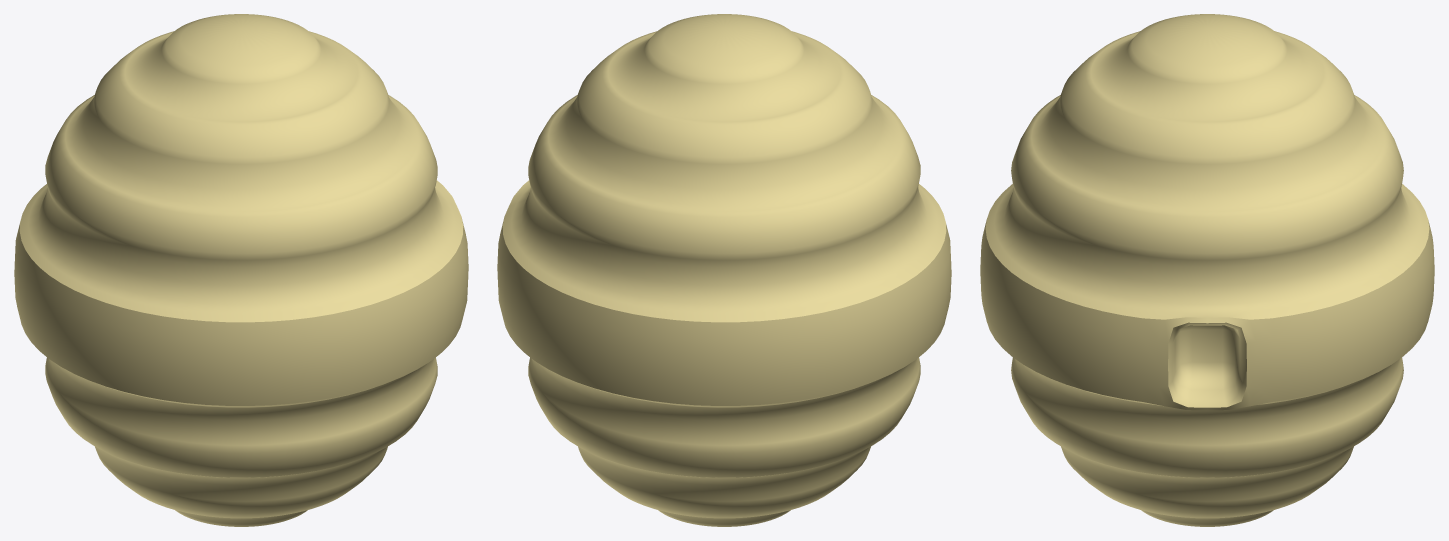
File: ruche_painter.fbx
3 renders of one model, left to right at view 1: azimuth 30°, elevation 25°; view 2: azimuth 150°, elevation 25°; view 3: azimuth 270°, elevation 25°, orthographic.
Visible parts, largest first — view 1: ruche; view 2: ruche; view 3: ruche.
Boxes of the visible parts, <box> form: ruche: <box>14,14,468,526</box>; ruche: <box>497,14,951,526</box>; ruche: <box>980,14,1434,526</box>.
Size of the model in its own units: 217 by 256 by 218.
